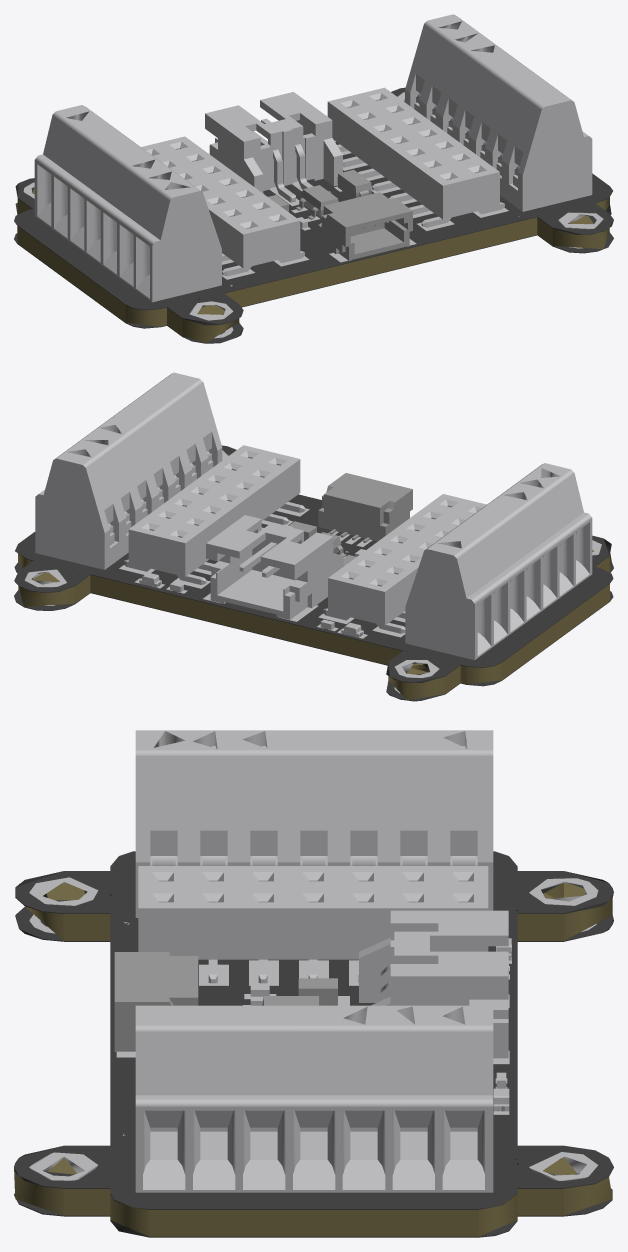
File: ada-6495.glb
3 renders of one model, top to bottom at view 1: azimuth 30°, elevation 25°; view 2: azimuth 150°, elevation 25°; view 3: azimuth 270°, elevation 25°, orthographic. The views are drawn at different scales.
Parts seen in each view (by area): view 1: 0.5833333333333334_0.5833333333333334_0.5833333333333334_0.8, 0.08333333333333333_0.08333333333333333_0.08333333333333333_, 0.16666666666666666_0.16666666666666666_0.08333333333333333_, 0.3333333333333333_0.3333333333333333_0.3333333333333333_0; view 2: 0.5833333333333334_0.5833333333333334_0.5833333333333334_0.8, 0.08333333333333333_0.08333333333333333_0.08333333333333333_, 0.16666666666666666_0.16666666666666666_0.08333333333333333_, 0.3333333333333333_0.3333333333333333_0.3333333333333333_0; view 3: 0.5833333333333334_0.5833333333333334_0.5833333333333334_0.8, 0.08333333333333333_0.08333333333333333_0.08333333333333333_, 0.16666666666666666_0.16666666666666666_0.08333333333333333_, 0.3333333333333333_0.3333333333333333_0.3333333333333333_0.
Boxes of the visible parts, x1,y1,x2,y2 form: 0.5833333333333334_0.5833333333333334_0.5833333333333334_0.8: (23,14,603,338); 0.08333333333333333_0.08333333333333333_0.08333333333333333_: (14,87,613,343); 0.16666666666666666_0.16666666666666666_0.08333333333333333_: (17,188,609,342); 0.3333333333333333_0.3333333333333333_0.3333333333333333_0: (268,169,412,260); 0.5833333333333334_0.5833333333333334_0.5833333333333334_0.8: (24,372,601,693); 0.08333333333333333_0.08333333333333333_0.08333333333333333_: (14,445,613,701); 0.16666666666666666_0.16666666666666666_0.08333333333333333_: (18,550,611,700); 0.3333333333333333_0.3333333333333333_0.3333333333333333_0: (289,473,412,566); 0.5833333333333334_0.5833333333333334_0.5833333333333334_0.8: (29,730,598,1192); 0.08333333333333333_0.08333333333333333_0.08333333333333333_: (14,851,613,1237); 0.16666666666666666_0.16666666666666666_0.08333333333333333_: (14,883,612,1236); 0.3333333333333333_0.3333333333333333_0.3333333333333333_0: (114,952,337,1051).
Size of the model in its own units: 4.32 by 1.2 by 3.05.
